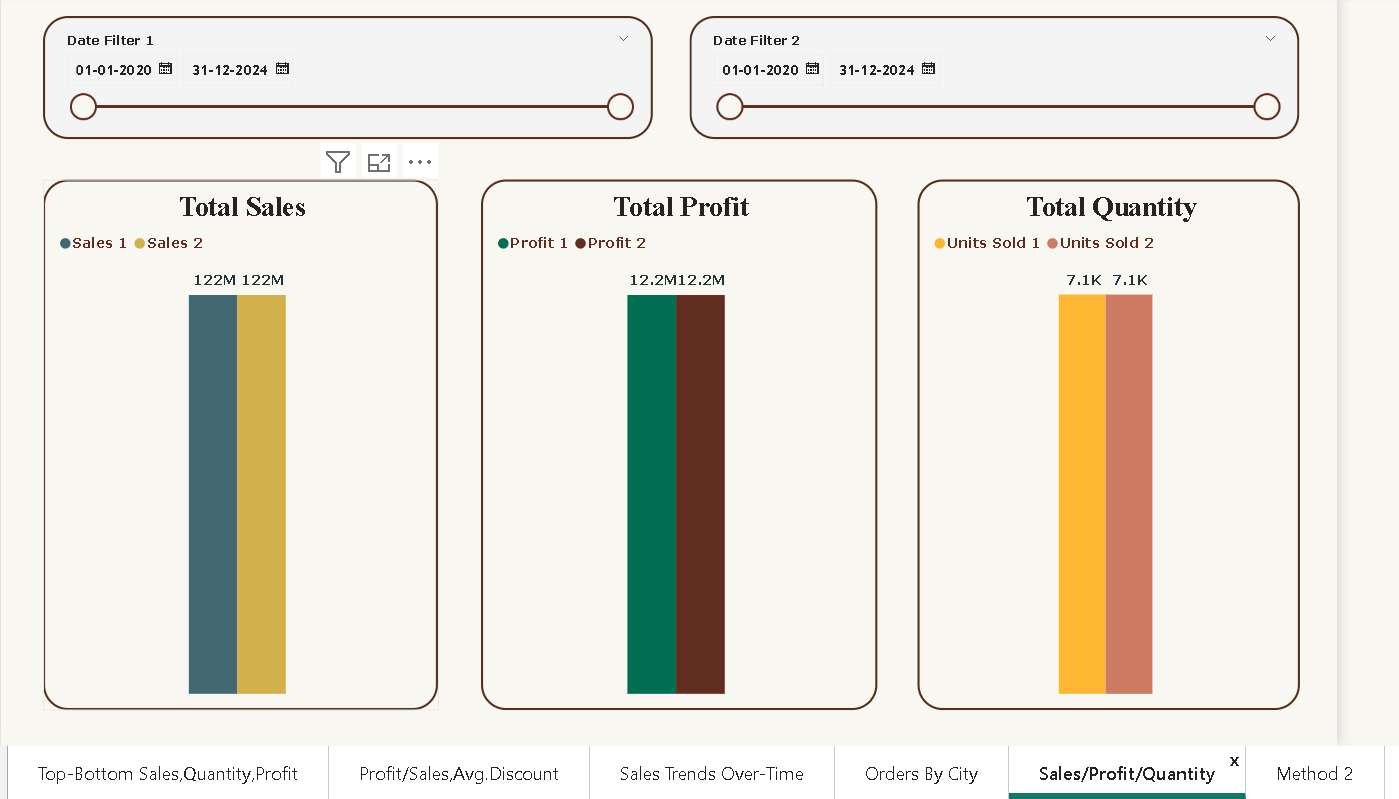

What the dashboard file says about the page in this screenshot:
{"tool":"powerbi","page":{"name":"Sales/Profit/Quantity","canvas":[1280,720],"ordinal":4},"visuals":[{"type":"slicer","fields":{"Values":["Date Table 1.Date"]},"box":[40.9,19.7,584.5,118.1],"z":0},{"type":"slicer","fields":{"Values":["Date Table 2.Date"]},"box":[660.2,19.7,584.5,118.1],"z":1000},{"type":"clusteredColumnChart","title":"Total Sales","fields":{"Y":["Sum(Fact Table.Net Sales)","Date Table 1.Sum of Net Sales"]},"box":[40.9,177.2,378.6,508.8],"z":2000},{"type":"clusteredColumnChart","title":"Total Profit","fields":{"Y":["Sum(Fact Table.Profit)","Measure Table 1.Total Profit"]},"box":[460.3,177.2,380.1,508.8],"z":3000},{"type":"clusteredColumnChart","title":"Total Quantity","fields":{"Y":["Sum(Fact Table.Units Sold)","Measure Table 1.Total Quantity"]},"box":[878.2,177.2,366.4,508.8],"z":4000}]}

Visuals, with their boxes in screenshot pixels (x1, y1, x2, y2):
slicer - Date Table 1.Date: rect(43, 13, 650, 136)
slicer - Date Table 2.Date: rect(686, 13, 1294, 136)
"Total Sales" clusteredColumnChart: rect(43, 177, 436, 706)
"Total Profit" clusteredColumnChart: rect(479, 177, 874, 706)
"Total Quantity" clusteredColumnChart: rect(913, 177, 1294, 706)
